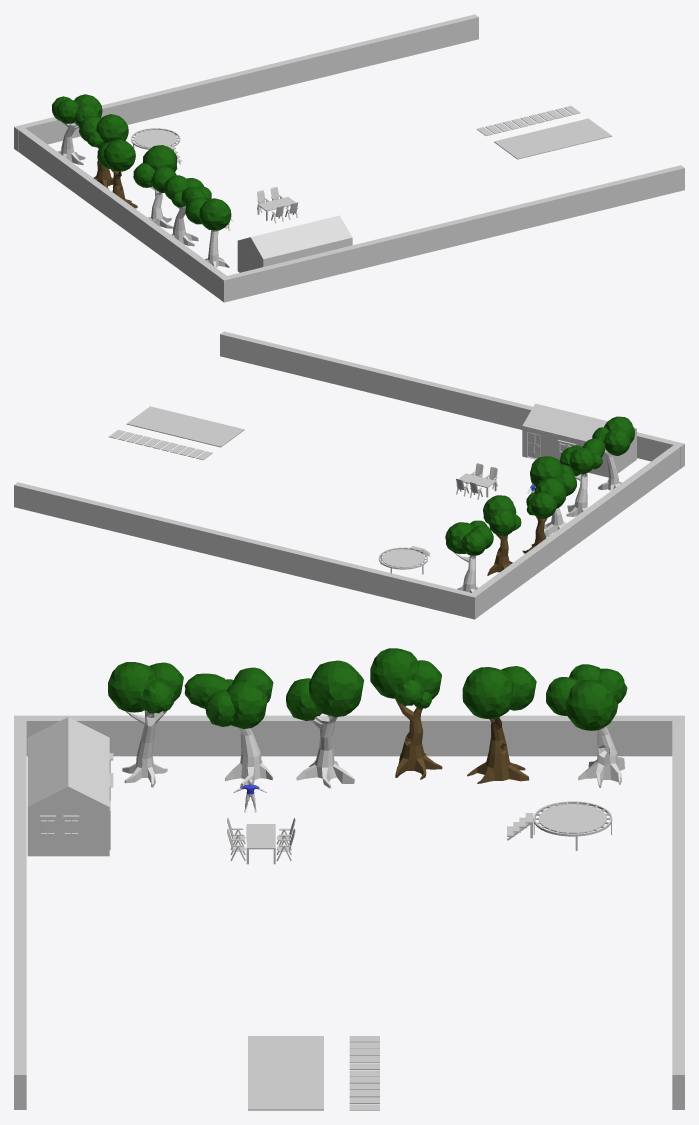
File: achtertuin_sepp.fbx
3 renders of one model, top to bottom at view 1: azimuth 30°, elevation 25°; view 2: azimuth 150°, elevation 25°; view 3: azimuth 270°, elevation 25°, orthographic. The views are drawn at different scales.
Visible parts, largest first — view 1: Cube.516, Cube.484, Cube.563, dak tuinhuisje, Cube.514, muren tuinhuisje, Cube.515, Icosphere, Icosphere.009, Icosphere.007, Icosphere.014, Cylinder.016 (+3 smaller); view 2: Cube.484, Cube.516, Cube.563, Cube.514, dak tuinhuisje, muren tuinhuisje, Cube.515, Icosphere.014, Cylinder.016, Icosphere.006, Icosphere.008, Icosphere.013 (+8 smaller); view 3: Cube.563, dak tuinhuisje, Cube.514, Cube.516, Cube.484, muren tuinhuisje, Icosphere.014, Cube.515, Icosphere.007, Icosphere.013, Icosphere, Icosphere.009 (+14 smaller).
Part boxes in pixels (x1,y1,x2,y2): Cube.516: (220, 165, 684, 302); Cube.484: (14, 14, 478, 151); Cube.563: (18, 127, 226, 298); dak tuinhuisje: (237, 215, 352, 260); Cube.514: (494, 118, 612, 159); muren tuinhuisje: (237, 239, 352, 272); Cube.515: (476, 106, 580, 136); Icosphere: (104, 139, 135, 171); Icosphere.009: (199, 198, 231, 230); Icosphere.007: (96, 114, 128, 143); Icosphere.014: (142, 145, 177, 171); Cylinder.016: (134, 130, 177, 148); Cube.484: (14, 482, 478, 619); Cube.516: (220, 331, 684, 468); Cube.563: (472, 444, 681, 615); Cube.514: (126, 406, 244, 447); dak tuinhuisje: (522, 403, 636, 442); muren tuinhuisje: (522, 427, 636, 477); Cube.515: (109, 429, 212, 460); Icosphere.014: (530, 456, 564, 486); Cylinder.016: (382, 549, 424, 567); Icosphere.006: (489, 509, 516, 536); Icosphere.008: (604, 429, 630, 455); Icosphere.013: (445, 522, 473, 553); Cube.563: (22, 715, 673, 756); dak tuinhuisje: (27, 717, 109, 809); Cube.514: (248, 1036, 323, 1110); Cube.516: (14, 715, 26, 1109); Cube.484: (672, 715, 684, 1109); muren tuinhuisje: (27, 809, 109, 856); Icosphere.014: (309, 660, 363, 717); Cube.515: (349, 1036, 379, 1110); Icosphere.007: (462, 667, 516, 719); Icosphere.013: (565, 679, 618, 730); Icosphere: (370, 648, 418, 698); Icosphere.009: (108, 662, 156, 712).
Bounding box in the file's own units: 4383 × 696 × 3454.
